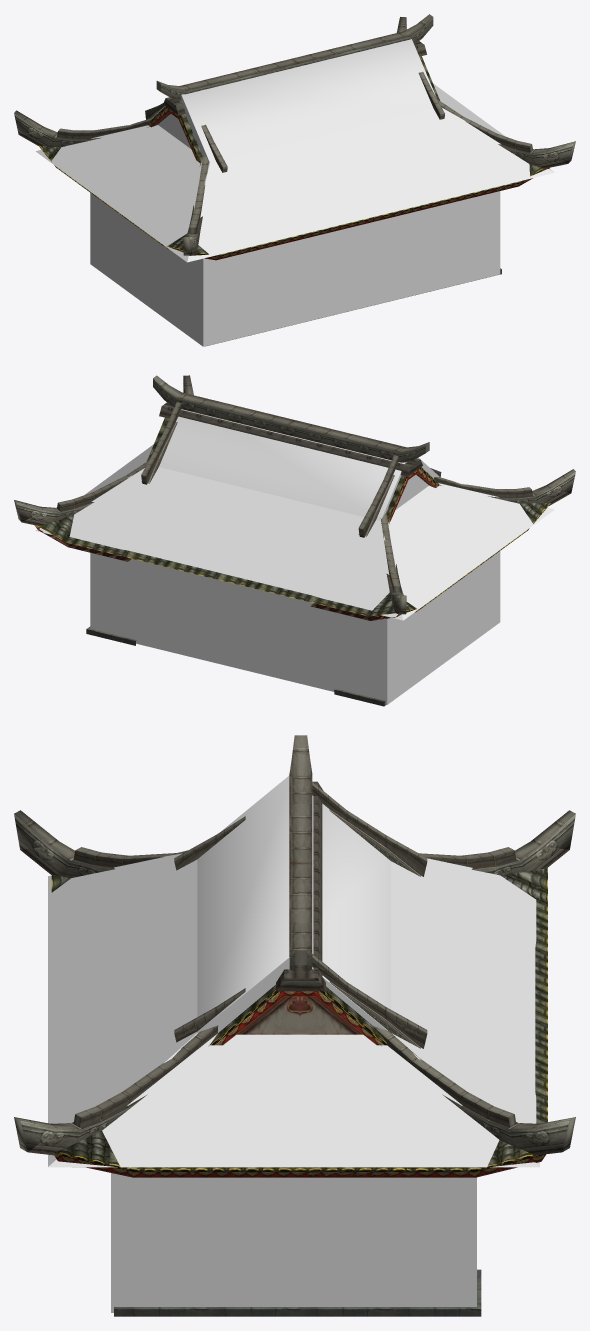
File: YHJ_midian.FBX
3 renders of one model, top to bottom at view 1: azimuth 30°, elevation 25°; view 2: azimuth 150°, elevation 25°; view 3: azimuth 270°, elevation 25°, orthographic. The views are drawn at different scales.
Visible parts, largest first — view 1: YHJ_midian-col, YHJ_midian; view 2: YHJ_midian-col, YHJ_midian; view 3: YHJ_midian-col, YHJ_midian.
Part boxes in pixels (x1=…): YHJ_midian-col: x1=36, y1=39, x2=554, y2=346; YHJ_midian: x1=14, y1=14, x2=575, y2=346; YHJ_midian-col: x1=35, y1=409, x2=554, y2=704; YHJ_midian: x1=14, y1=375, x2=575, y2=706; YHJ_midian-col: x1=48, y1=775, x2=539, y2=1312; YHJ_midian: x1=14, y1=735, x2=575, y2=1316.
Bounding box in the file's own units: 21.24 × 11.35 × 16.25.
